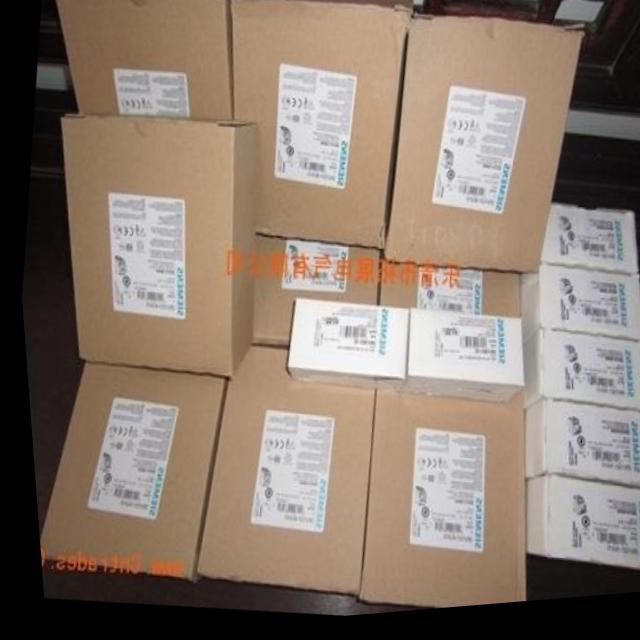box: (380, 9, 583, 281), (62, 115, 251, 383), (231, 0, 414, 254), (188, 352, 369, 603), (31, 365, 220, 584), (350, 397, 516, 615), (56, 0, 232, 124), (245, 237, 374, 349), (515, 484, 640, 582), (283, 302, 403, 399), (518, 406, 640, 501), (395, 316, 517, 407), (517, 339, 640, 421), (518, 272, 637, 352), (374, 266, 516, 326), (536, 212, 633, 285)
